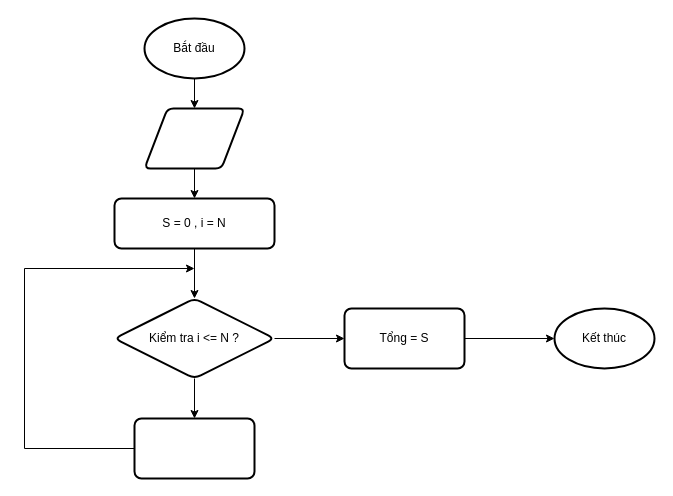
This 673x496 diagram has some shape labels left out. Each missing label, with the box of its shape:
Nhập N: (143, 107, 245, 169)
S = S + i i = i +1: (133, 417, 255, 479)
